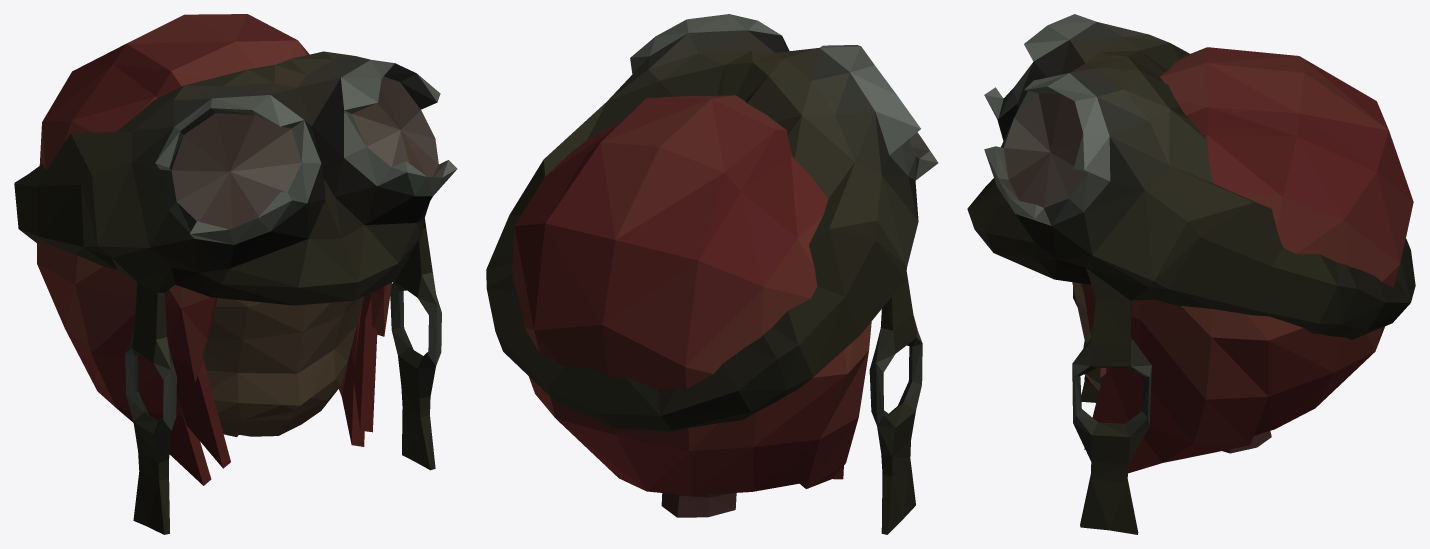
File: helm_darkskin_bob_red_goggles.fbx
3 renders of one model, left to right at view 1: azimuth 30°, elevation 25°; view 2: azimuth 150°, elevation 25°; view 3: azimuth 270°, elevation 25°, orthographic. The views are drawn at different scales.
Visible parts, largest first — view 1: helm_darkskin_bob_red_goggles; view 2: helm_darkskin_bob_red_goggles; view 3: helm_darkskin_bob_red_goggles.
Boxes of the visible parts, <box> form: helm_darkskin_bob_red_goggles: <box>14,14,457,534</box>; helm_darkskin_bob_red_goggles: <box>486,14,938,534</box>; helm_darkskin_bob_red_goggles: <box>967,14,1415,534</box>.
Bounding box in the file's own units: 1.22 × 1.45 × 1.42.
